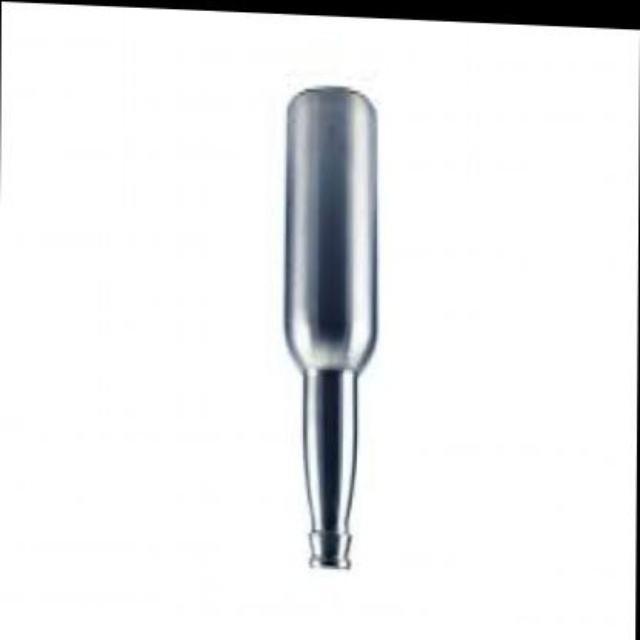trash: (285, 86, 375, 566)
